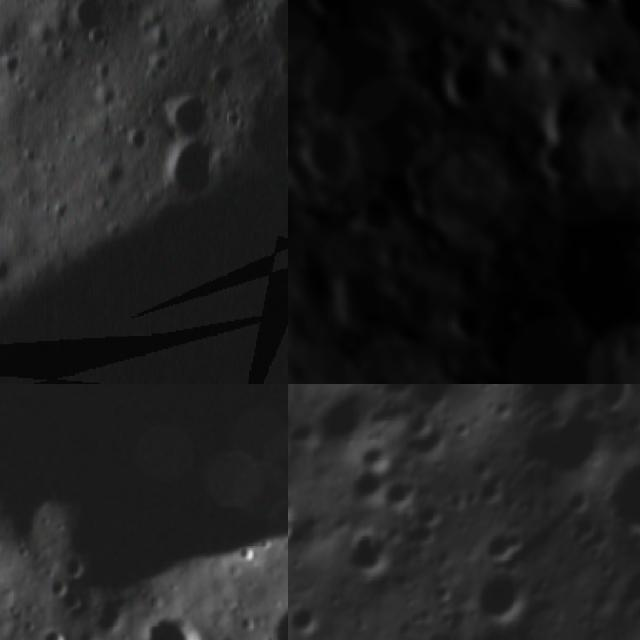crater: (0, 384, 288, 585), (506, 388, 627, 505), (292, 384, 394, 468), (455, 554, 549, 640), (507, 328, 640, 384), (329, 511, 413, 598), (586, 432, 640, 563), (382, 384, 522, 433), (576, 220, 640, 294), (534, 134, 598, 198), (332, 258, 392, 325), (528, 87, 593, 140), (163, 142, 219, 196), (302, 124, 353, 174), (444, 61, 494, 105), (288, 588, 329, 640), (158, 96, 211, 136), (445, 294, 487, 344), (362, 186, 405, 232), (138, 614, 203, 640), (406, 152, 449, 189), (72, 0, 107, 41), (410, 188, 450, 222), (553, 0, 622, 19), (426, 219, 458, 256), (474, 366, 520, 384), (298, 242, 323, 272), (40, 624, 66, 640)
